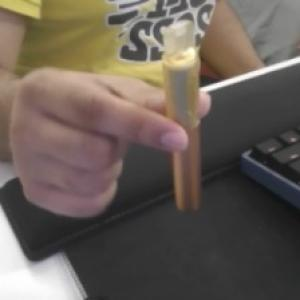Golden-E-Ciggirate: (157, 16, 210, 217)
